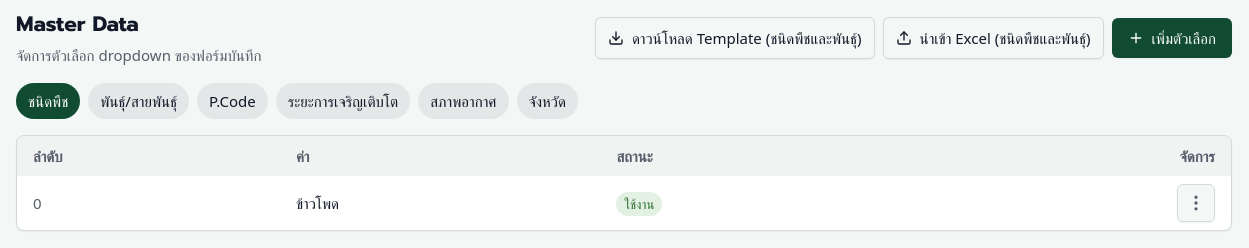
Scenario: MasterData — round 8-26A: the P.Code tab › fetches type=p_code when the tab is selected
Expected: the text "ข้าวโพด" is shown, 280,176 -> 600,230
Click the button "P.Code".
click(232, 101)  # box 197,83 -> 268,119
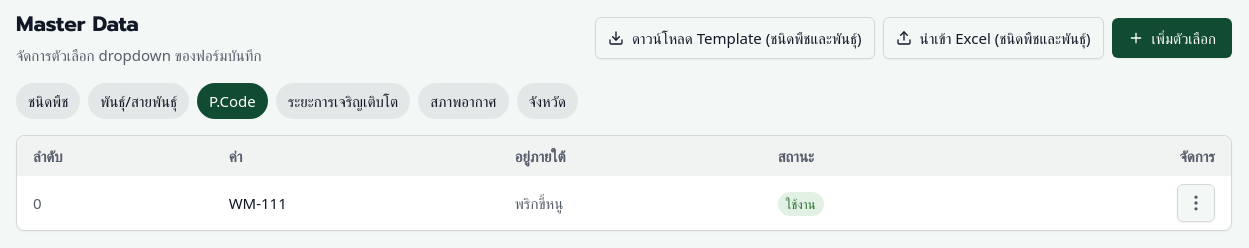
Result: the text "WM-111" is shown at 213,176 -> 499,230
